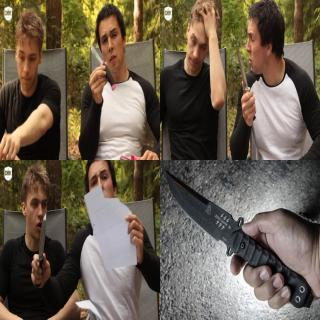knife: (162, 165, 258, 271), (85, 36, 117, 92), (234, 38, 256, 114), (32, 210, 48, 286)
